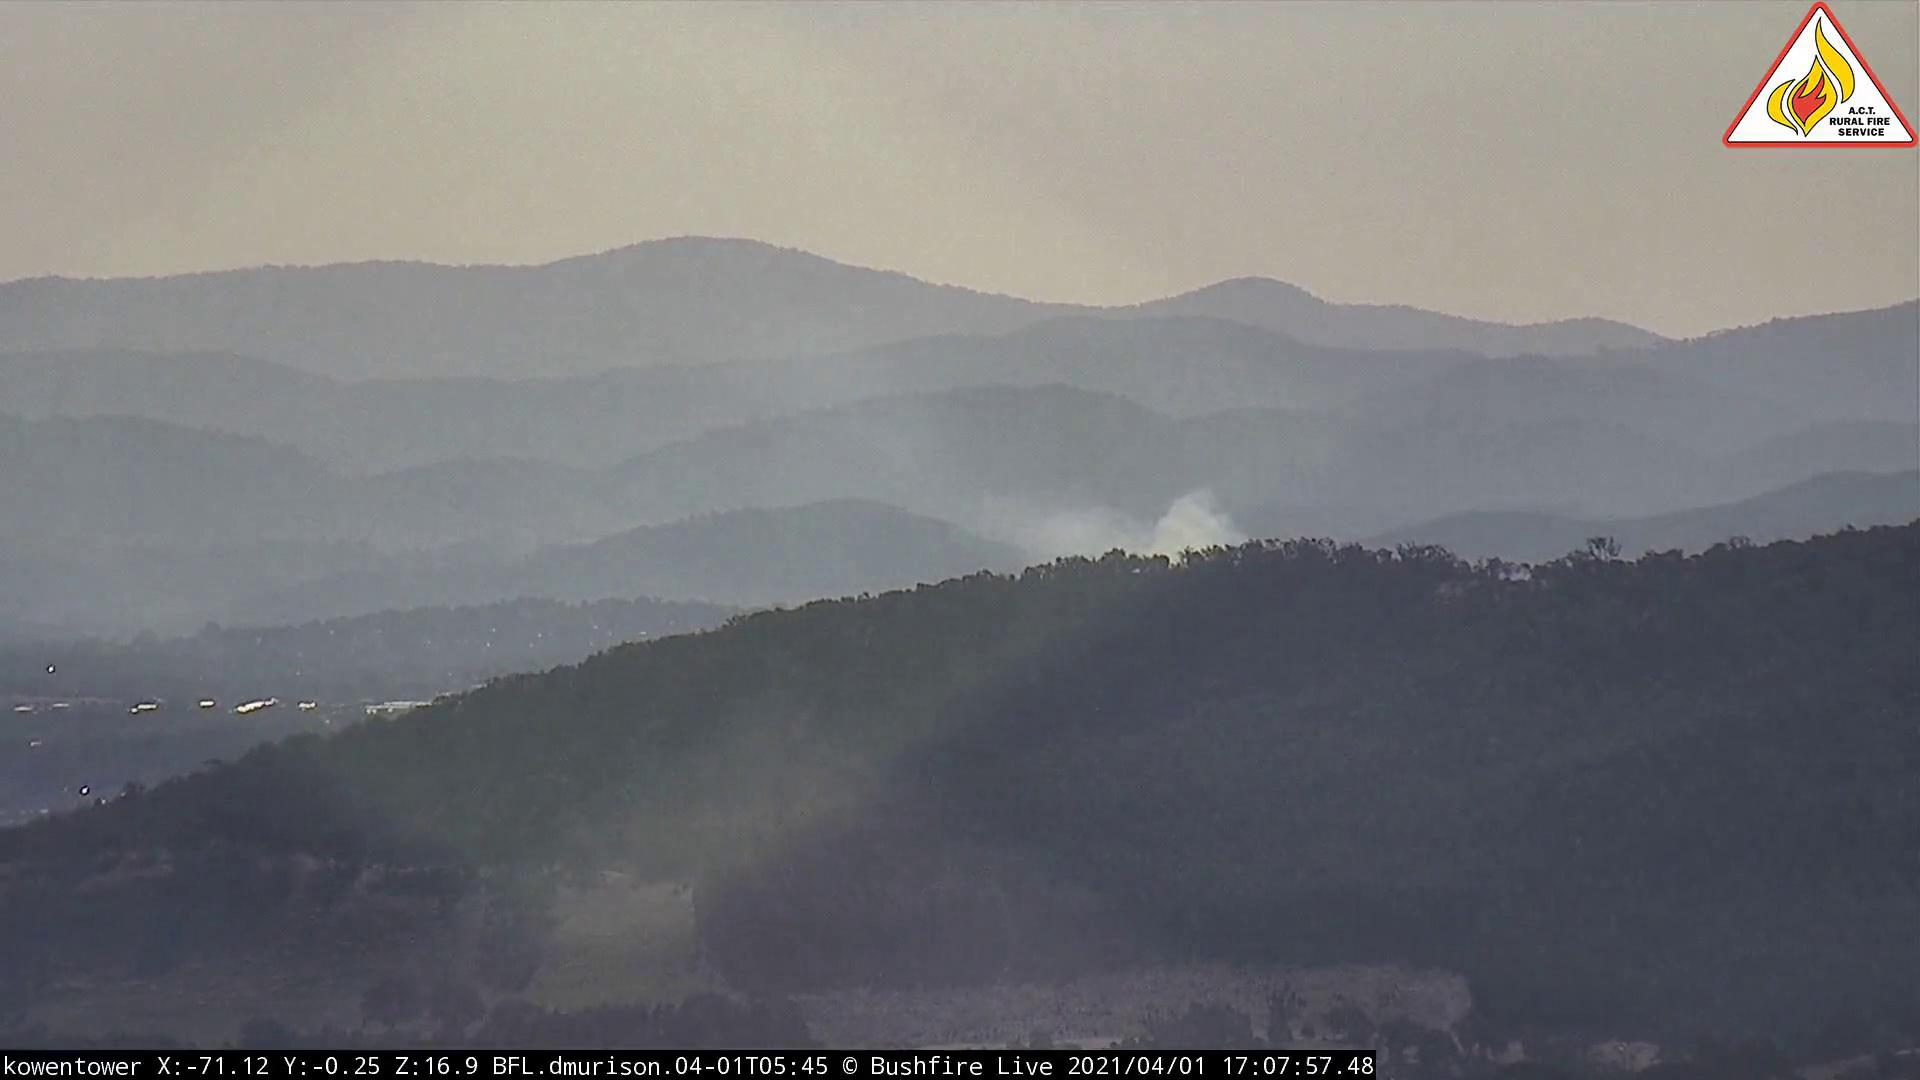instance_salient_object: (951, 452, 1283, 601)
